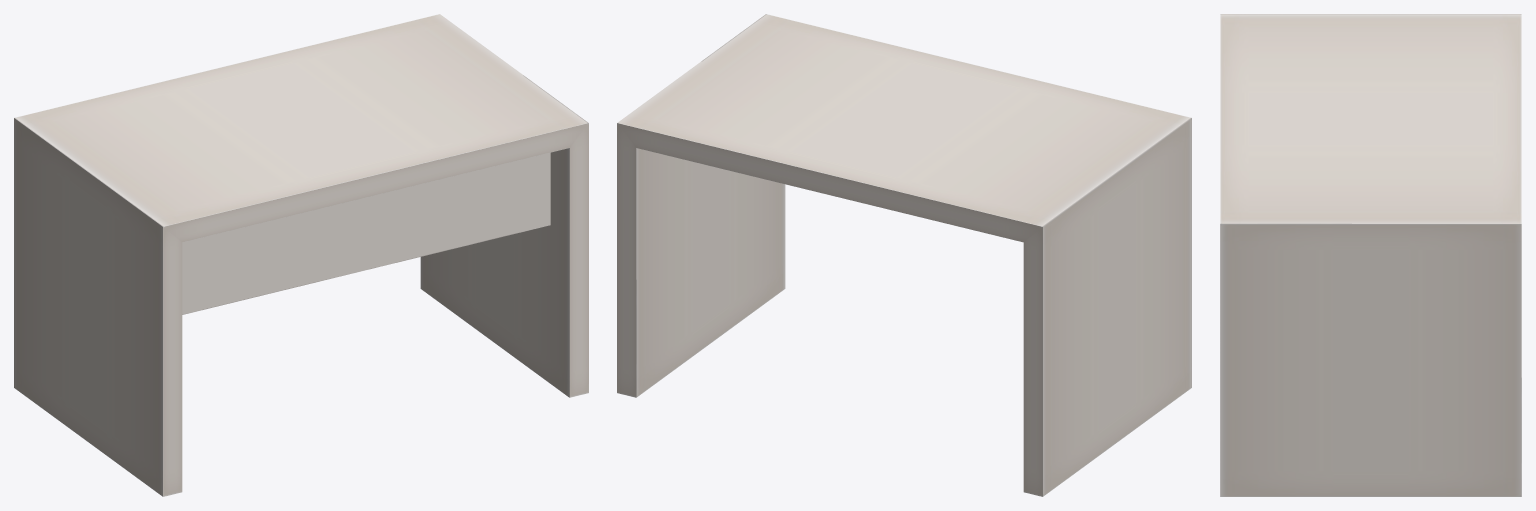
File: Mob-bureau-blanc_01.FBX
The picture shows the model from 3 angles, left to right: view 1: azimuth 30°, elevation 25°; view 2: azimuth 150°, elevation 25°; view 3: azimuth 270°, elevation 25°; orthographic projection.
Visible parts, largest first — view 1: Mob-bureau-blanc_01; view 2: Mob-bureau-blanc_01; view 3: Mob-bureau-blanc_01.
Part boxes in pixels (x1,y1,x2,y2): Mob-bureau-blanc_01: [14, 14, 588, 496]; Mob-bureau-blanc_01: [617, 14, 1191, 496]; Mob-bureau-blanc_01: [1220, 14, 1521, 496].
Size of the model in its own units: 132 by 80 by 80.
Materials: 1 (1 with a texture image).
